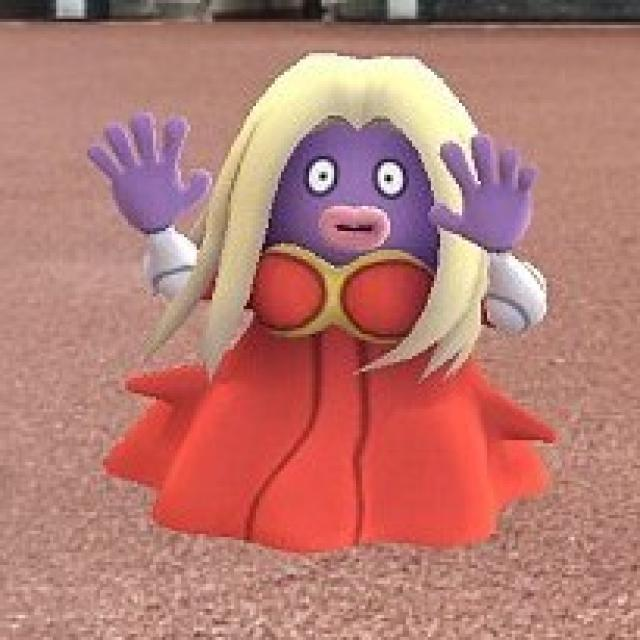Jynx: (163, 45, 533, 528)
